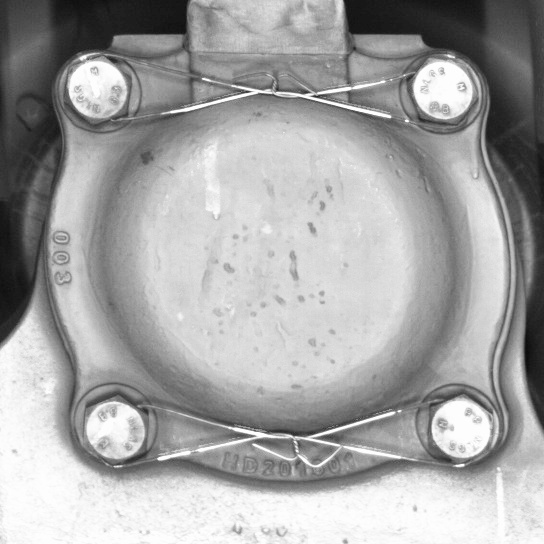IronWire: (59, 48, 486, 137), (74, 386, 502, 470)
Screw: (402, 47, 485, 135), (418, 385, 502, 469), (59, 48, 137, 134), (74, 390, 156, 470)
